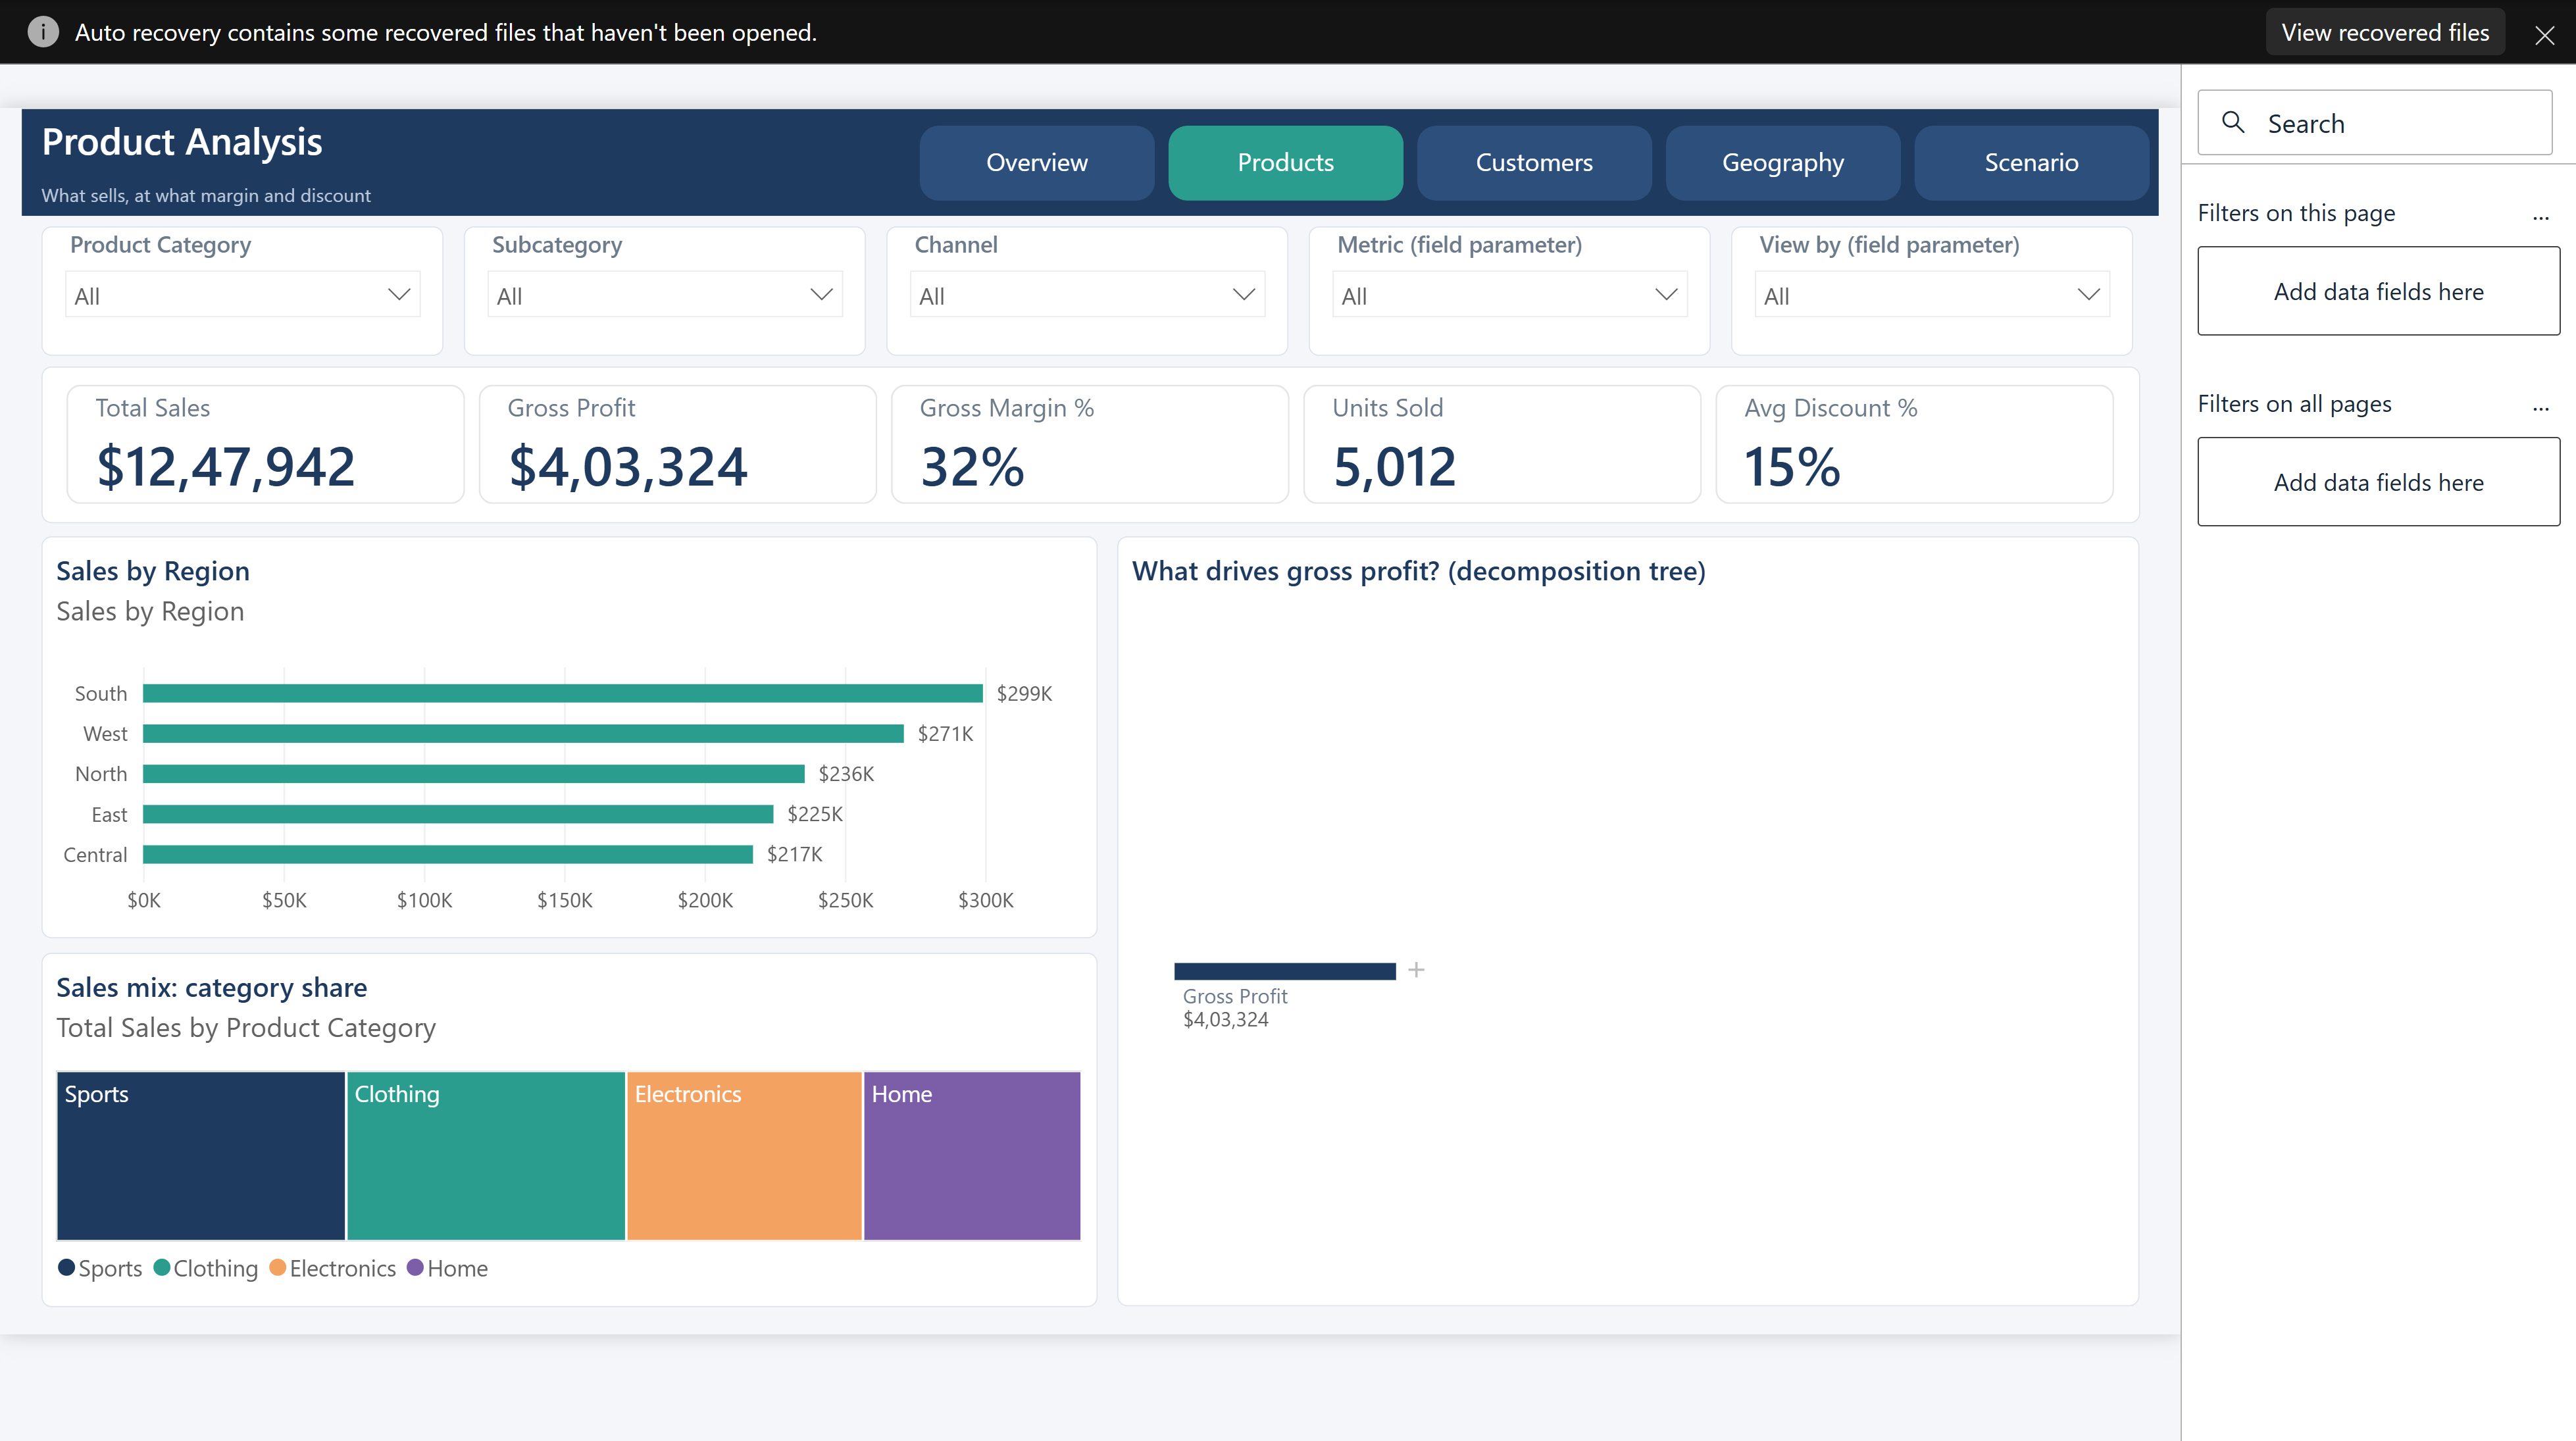

The page's visual inventory and layout, read from the dashboard file:
{"tool":"powerbi","page":{"name":"Product Analysis","canvas":[1280,720],"ordinal":1},"visuals":[{"type":"basicShape","box":[0,0,1280,64],"z":1010},{"type":"textbox","box":[24,4,470,36],"z":1020},{"type":"textbox","box":[24,40,470,22],"z":1030},{"type":"actionButton","box":[540,10,138,44],"z":1040},{"type":"actionButton","box":[686,10,138,44],"z":1050},{"type":"actionButton","box":[832,10,138,44],"z":1060},{"type":"actionButton","box":[978,10,138,44],"z":1070},{"type":"actionButton","box":[1124,10,138,44],"z":1080},{"type":"slicer","fields":{"Values":["Sales.Product Category"]},"box":[24,70,236,76],"z":1090},{"type":"slicer","fields":{"Values":["Sales.Product Subcategory"]},"box":[272,70,236,76],"z":1100},{"type":"slicer","fields":{"Values":["Sales.Channel"]},"box":[520,70,236,76],"z":1110},{"type":"slicer","fields":{"Values":["Metric Selector.Metric Selector"]},"box":[768,70,236,76],"z":1120},{"type":"slicer","fields":{"Values":["View By.View By"]},"box":[1016,70,236,76],"z":1130},{"type":"cardVisual","fields":{"Data":["Sales.Total Sales","Sales.Gross Profit","Sales.Gross Margin %","Sales.Units Sold","Sales.Avg Discount %"]},"box":[24,152,1232,92],"z":1140},{"type":"clusteredBarChart","fields":{"Category":["Sales.Region"],"Y":["Sales.Total Sales"]},"box":[24,252,620,236],"z":1150},{"type":"treemap","title":"Sales mix: category share","fields":{"Group":["Sales.Product Hierarchy.Product Category"],"Values":["Sales.Total Sales"]},"box":[24,496,620,208],"z":1160},{"type":"decompositionTreeVisual","title":"What drives gross profit? (decomposition tree)","fields":{"Analyze":["Sales.Gross Profit"],"ExplainBy":["Sales.Product Category","Sales.Channel","Sales.Customer Segment","Sales.Region"]},"box":[656,252,600,452],"z":1170}]}

Visuals, with their boxes on the page's 1280x720 design canvas (x1, y1, x2, y2). These are canvas units, not pixel positions in the 2576x1441 screenshot, which may show the page scaled, cropped or inside an application window:
basicShape: [left=0, top=0, right=1280, bottom=64]
textbox: [left=24, top=4, right=494, bottom=40]
textbox: [left=24, top=40, right=494, bottom=62]
actionButton: [left=540, top=10, right=678, bottom=54]
actionButton: [left=686, top=10, right=824, bottom=54]
actionButton: [left=832, top=10, right=970, bottom=54]
actionButton: [left=978, top=10, right=1116, bottom=54]
actionButton: [left=1124, top=10, right=1262, bottom=54]
slicer - Sales.Product Category: [left=24, top=70, right=260, bottom=146]
slicer - Sales.Product Subcategory: [left=272, top=70, right=508, bottom=146]
slicer - Sales.Channel: [left=520, top=70, right=756, bottom=146]
slicer - Metric Selector.Metric Selector: [left=768, top=70, right=1004, bottom=146]
slicer - View By.View By: [left=1016, top=70, right=1252, bottom=146]
cardVisual - Sales.Total Sales x Sales.Gross Profit: [left=24, top=152, right=1256, bottom=244]
clusteredBarChart - Sales.Region x Sales.Total Sales: [left=24, top=252, right=644, bottom=488]
"Sales mix: category share" treemap: [left=24, top=496, right=644, bottom=704]
"What drives gross profit? (decomposition tree)" decompositionTreeVisual: [left=656, top=252, right=1256, bottom=704]
